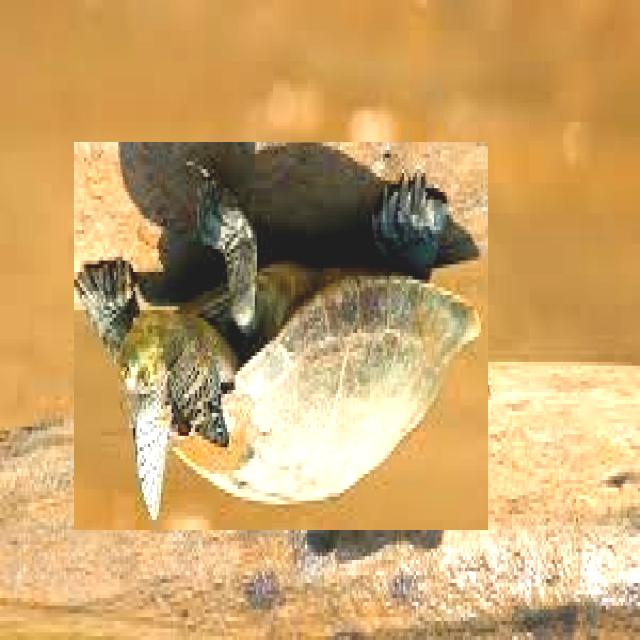Sea turtle: (74, 142, 488, 530)
